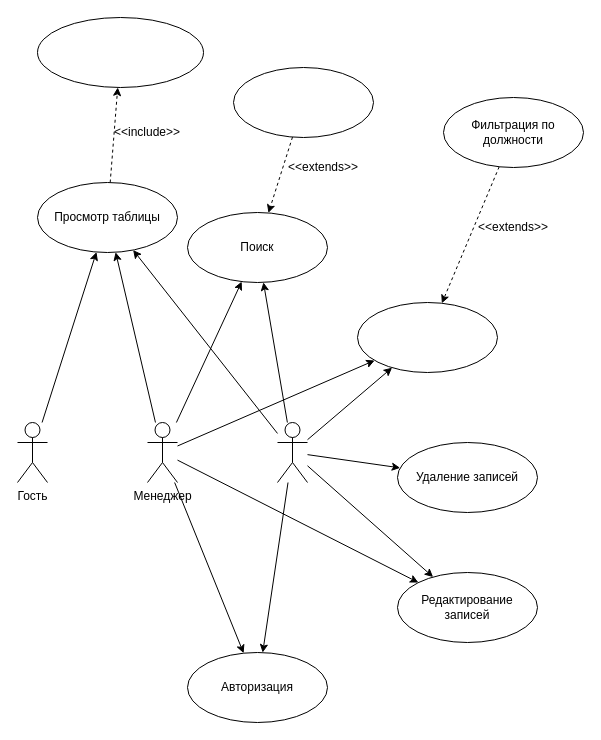
This 601x740 diagram has some shape labels left out. The box of each missing label's shape, as (x1, y1, x2, y2) in pixels:
Администратор: (276, 422, 308, 482)
Поиск по ФИО: (232, 66, 374, 138)
Просмотр продолжительности работы сотрудника: (36, 16, 204, 88)
Фильтрация: (356, 302, 498, 372)
